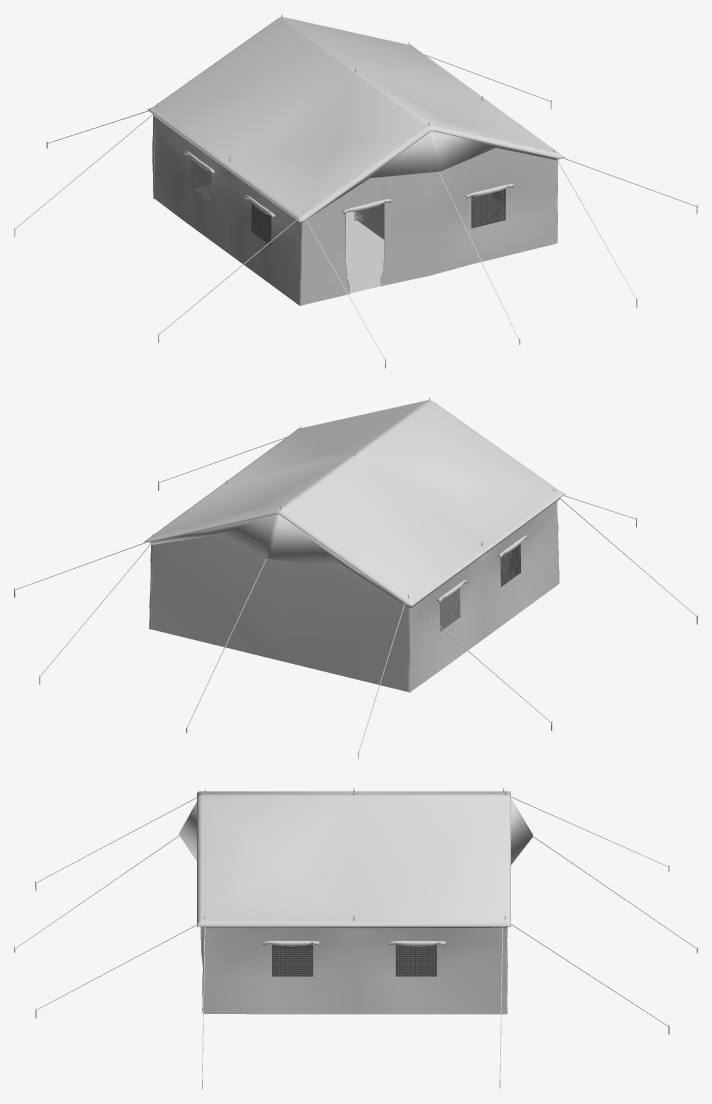
The model's file is tent.glb.
3 views of the same model, one above another, from view 1: azimuth 30°, elevation 25°; view 2: azimuth 150°, elevation 25°; view 3: azimuth 270°, elevation 25° (orthographic). The views are drawn at different scales.
Parts seen in each view (by area): view 1: osnova, object 8; view 2: osnova; view 3: osnova.
Part boxes in pixels (x1,y1,x2,y2): osnova: (14, 14, 697, 368); object 8: (355, 203, 384, 239); osnova: (14, 397, 697, 758); osnova: (14, 788, 697, 1089).
Bounding box in the file's own units: 945 × 266 × 1010.
1 material, 1 textured.
